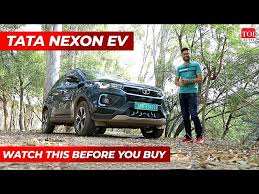Tata Nexon: (41, 66, 168, 141)
